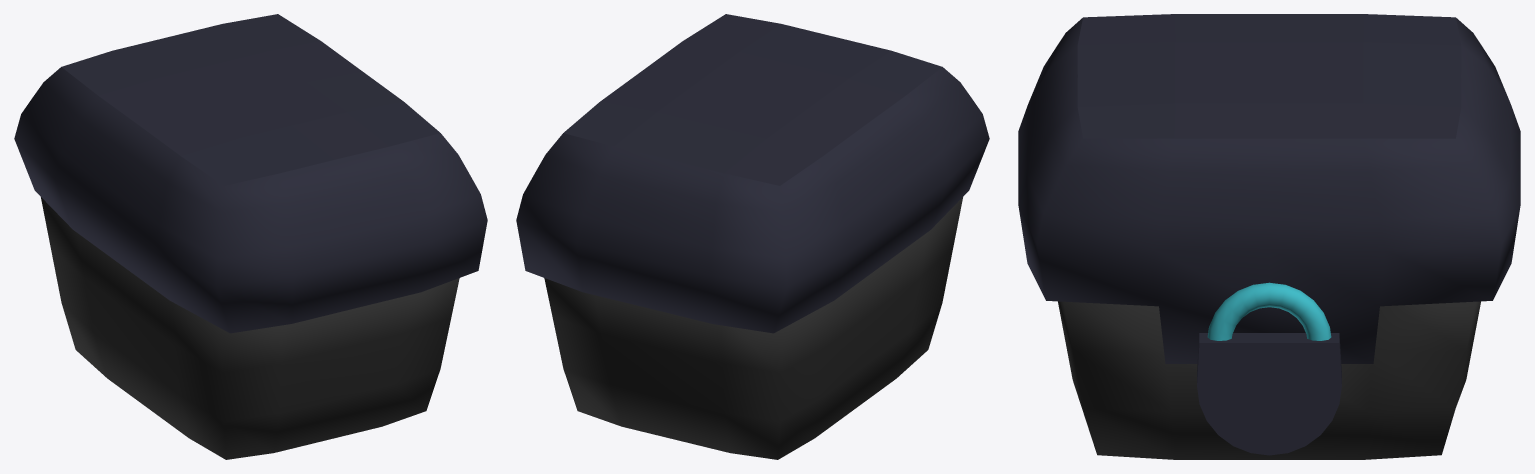
File: сундук.fbx
3 views of the same model, side by side, from view 1: azimuth 30°, elevation 25°; view 2: azimuth 150°, elevation 25°; view 3: azimuth 270°, elevation 25° (orthographic). The views are drawn at different scales.
Visible parts, largest first — view 1: Куб.001, Куб; view 2: Куб.001, Куб; view 3: Куб.001, Куб.
Part boxes in pixels (bbox=[...]): Куб.001: bbox=[14, 14, 487, 333]; Куб: bbox=[41, 197, 459, 459]; Куб.001: bbox=[516, 14, 989, 333]; Куб: bbox=[544, 197, 962, 459]; Куб.001: bbox=[1018, 14, 1520, 455]; Куб: bbox=[1058, 301, 1480, 459].
Size of the model in its own units: 241 by 210 by 284.
